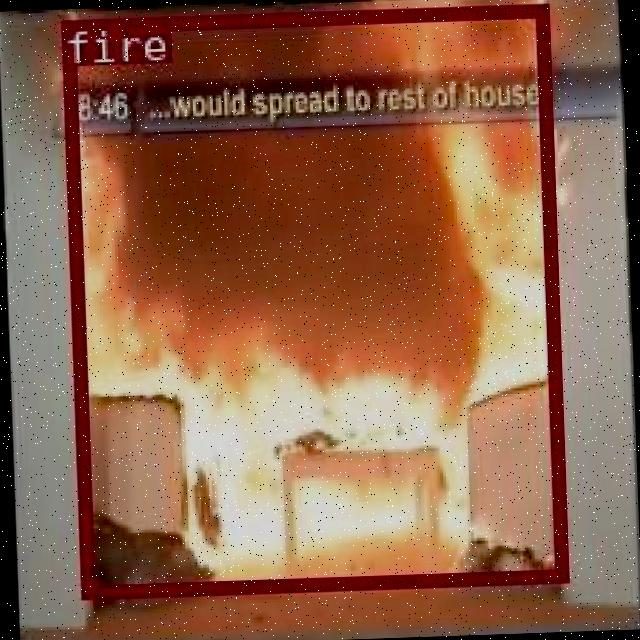fire: (60, 2, 565, 596)
